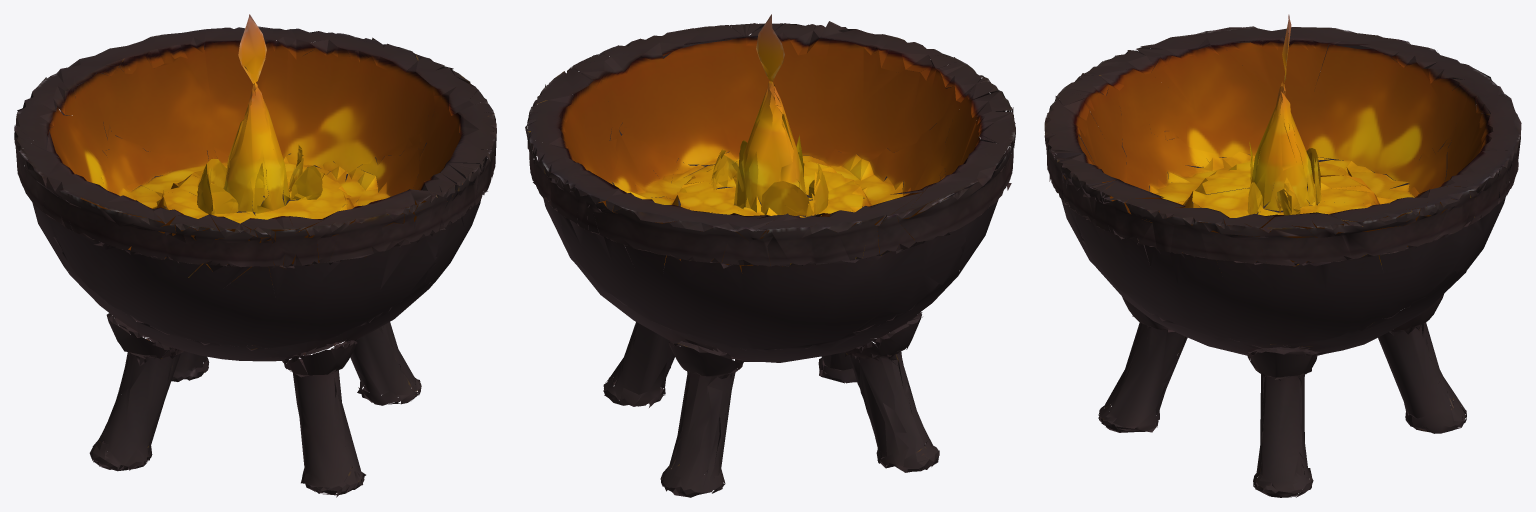
The model's file is Forge_Brazier.glb.
3 views of the same model, side by side, from view 1: azimuth 30°, elevation 25°; view 2: azimuth 150°, elevation 25°; view 3: azimuth 270°, elevation 25° (orthographic). The views are drawn at different scales.
Visible parts, largest first — view 1: Forge_Brazier; view 2: Forge_Brazier; view 3: Forge_Brazier.
Part boxes in pixels (x1,y1,x2,y2): Forge_Brazier: (14, 14, 496, 497); Forge_Brazier: (525, 14, 1015, 497); Forge_Brazier: (1044, 14, 1521, 497).
Bounding box in the file's own units: 1.28 × 1.21 × 1.28.
1 material, 1 textured.
